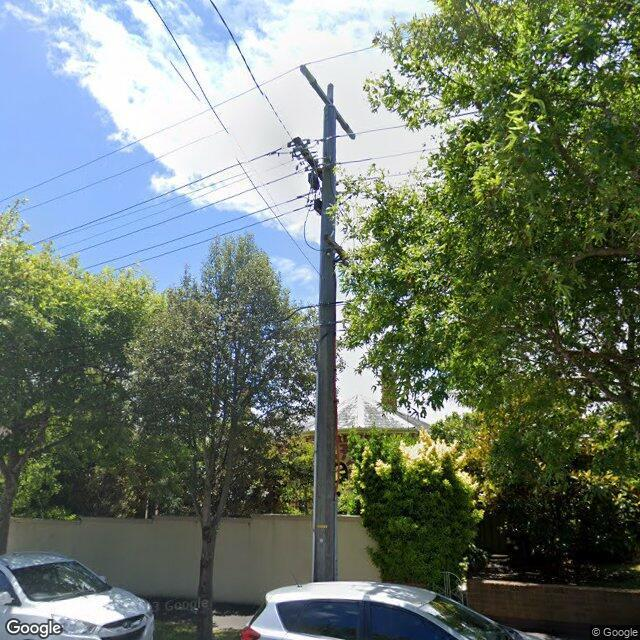HV-transmission: (300, 65, 355, 140)
crossarm: (310, 80, 349, 131), (292, 137, 323, 182)
timber-pole: (314, 105, 337, 582)
